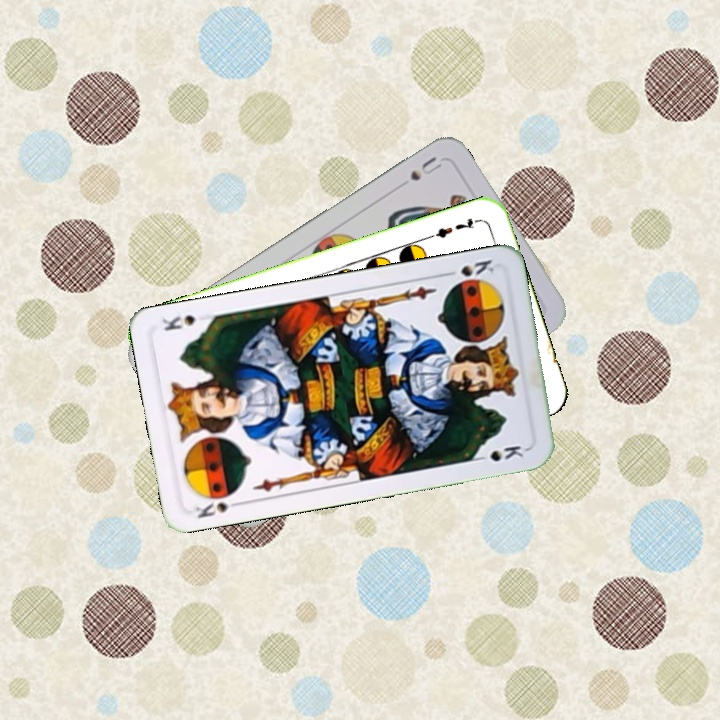E7: (425, 213, 483, 241)
SK: (439, 255, 497, 287), (192, 487, 246, 521)
SU: (406, 152, 445, 184)
